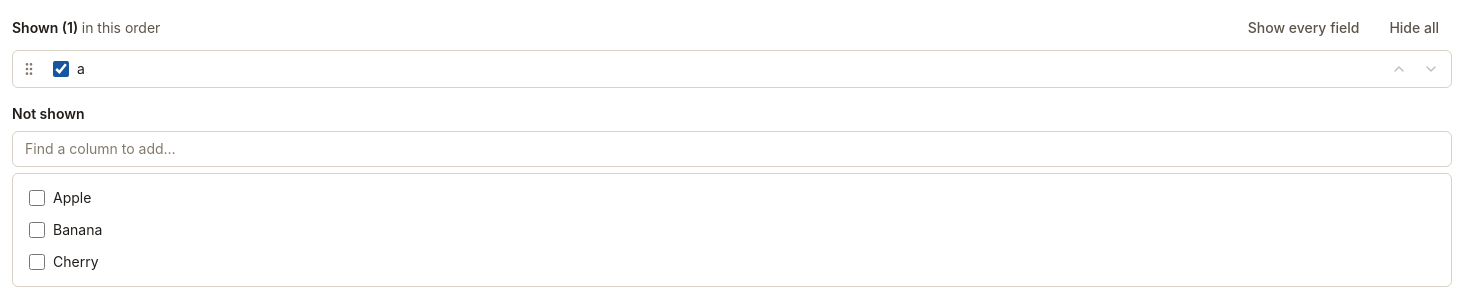
Scenario: ColumnPicker › finds a column to add by typing
Type "an" into the search field labelled "Find a column to add" at (732, 149), box left=12, top=131, right=1452, bottom=167
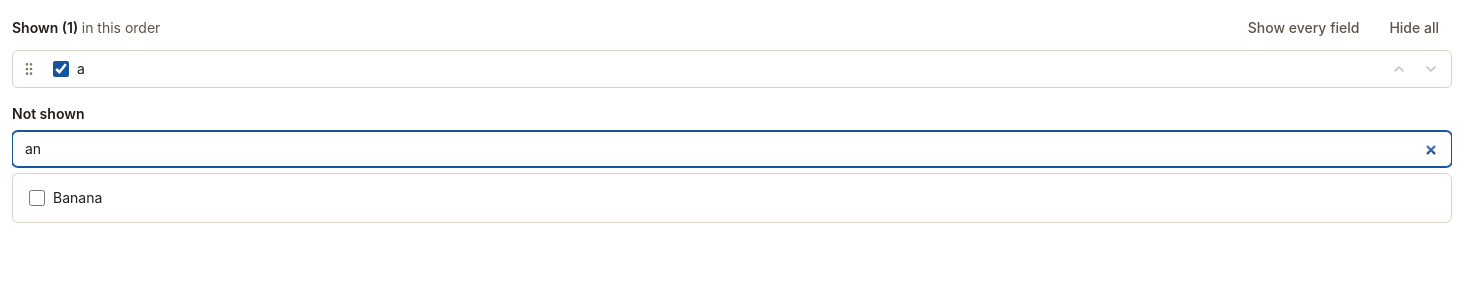
Expected: the text "Banana" is shown, left=29, top=189, right=102, bottom=206
Expected: the text "Cherry" is gone
